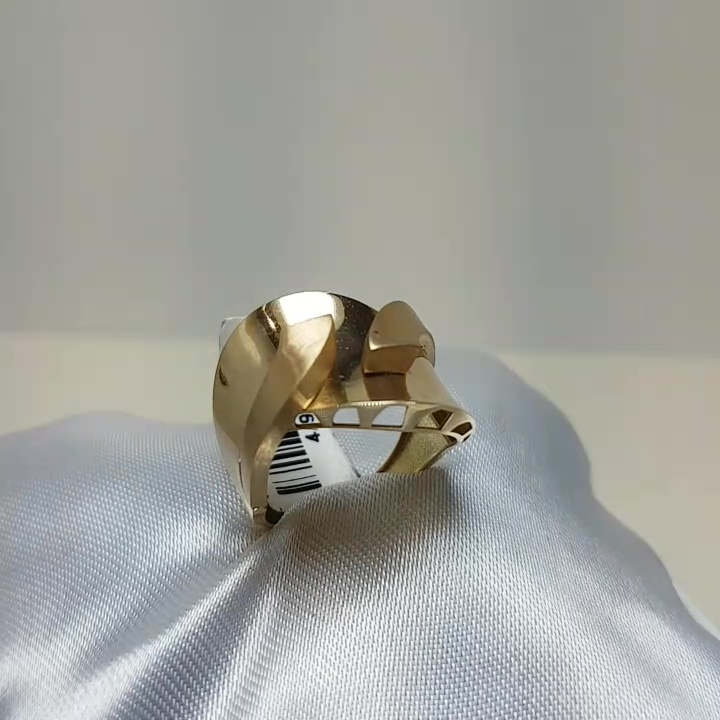Ring 4: (201, 261, 493, 553)
